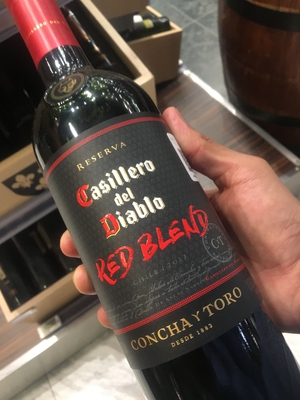casillero del diablo red blend: (11, 9, 295, 393)
